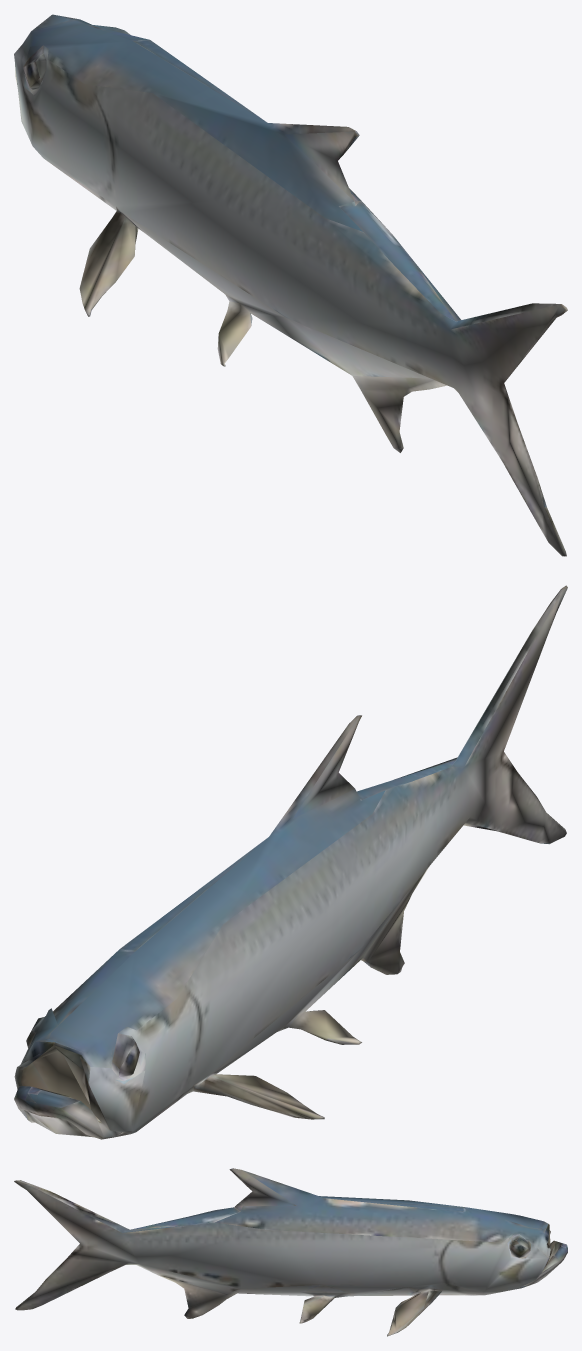
Rendered from tarpon-ver.glb.
3 renders of one model, top to bottom at view 1: azimuth 30°, elevation 25°; view 2: azimuth 150°, elevation 25°; view 3: azimuth 270°, elevation 25°, orthographic. The views are drawn at different scales.
Visible parts, largest first — view 1: tripo_node_8ab8d602-4a54-4628-9b88-0bd10cc729c6; view 2: tripo_node_8ab8d602-4a54-4628-9b88-0bd10cc729c6; view 3: tripo_node_8ab8d602-4a54-4628-9b88-0bd10cc729c6.
Part boxes in pixels (box(x1,y1,x2,y2)): tripo_node_8ab8d602-4a54-4628-9b88-0bd10cc729c6: box(14, 14, 567, 556); tripo_node_8ab8d602-4a54-4628-9b88-0bd10cc729c6: box(14, 585, 567, 1139); tripo_node_8ab8d602-4a54-4628-9b88-0bd10cc729c6: box(14, 1168, 567, 1336).
Size of the model in its own units: 0.6745 by 0.8 by 2.67.
Materials: 1 (1 with a texture image).
